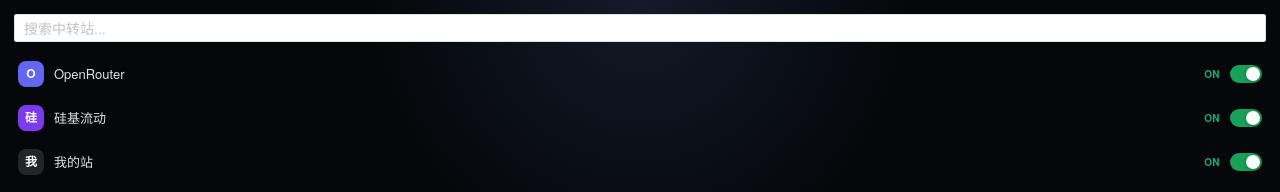
Test: ProviderList 单元 › 无匹配时显示空态
Type "不存在的名字" into the field with placeholder "搜索中转站..." at [640, 28], box [24,14,1256,42]
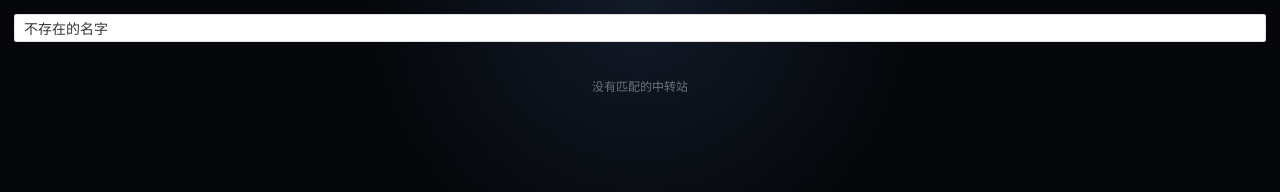
Check: the text "没有匹配的中转站" is shown, box [592,77,688,94]
